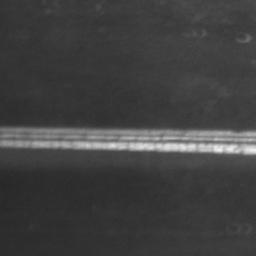Bright scratch: (0, 127, 256, 156)
